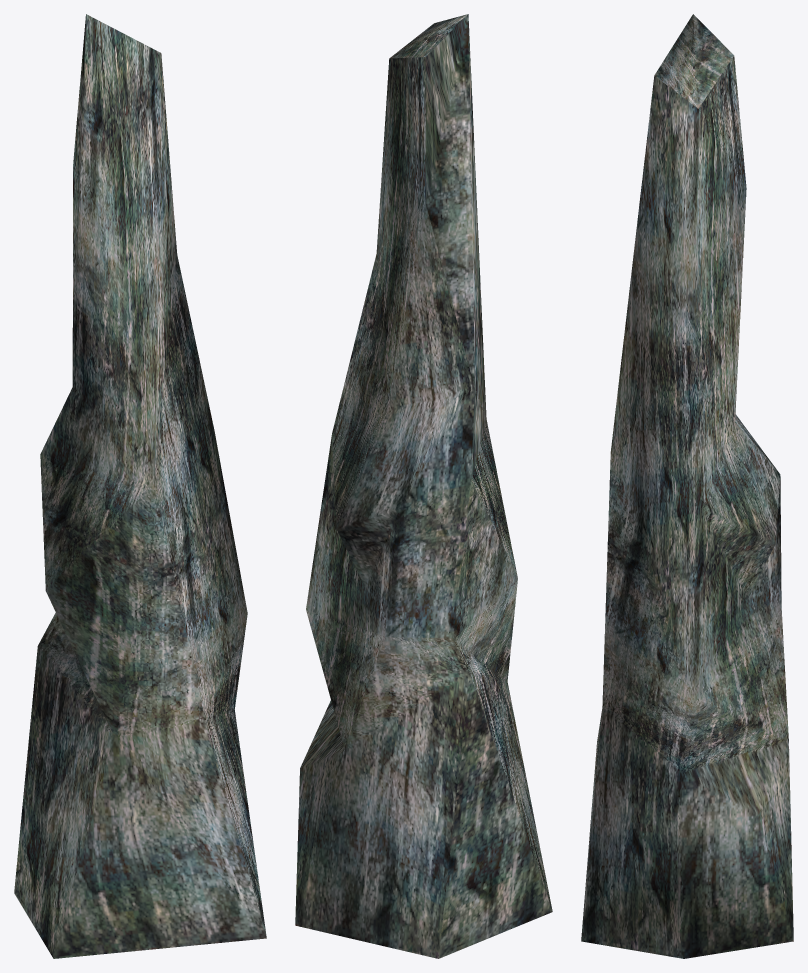
File: rock_dath_desertspire_a1_l4.fbx
The picture shows the model from 3 angles, left to right: view 1: azimuth 30°, elevation 25°; view 2: azimuth 150°, elevation 25°; view 3: azimuth 270°, elevation 25°; orthographic projection. The views are drawn at different scales.
Visible parts, largest first — view 1: mesh_node; view 2: mesh_node; view 3: mesh_node.
Boxes of the visible parts, x1=… form: mesh_node: x1=14, y1=14, x2=266, y2=958; mesh_node: x1=295, y1=14, x2=552, y2=958; mesh_node: x1=581, y1=14, x2=793, y2=958.
Size of the model in its own units: 16.71 by 65.69 by 14.55.
